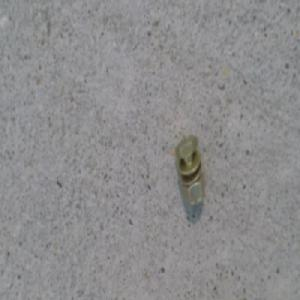BoltNutSet: (175, 137, 204, 206)
